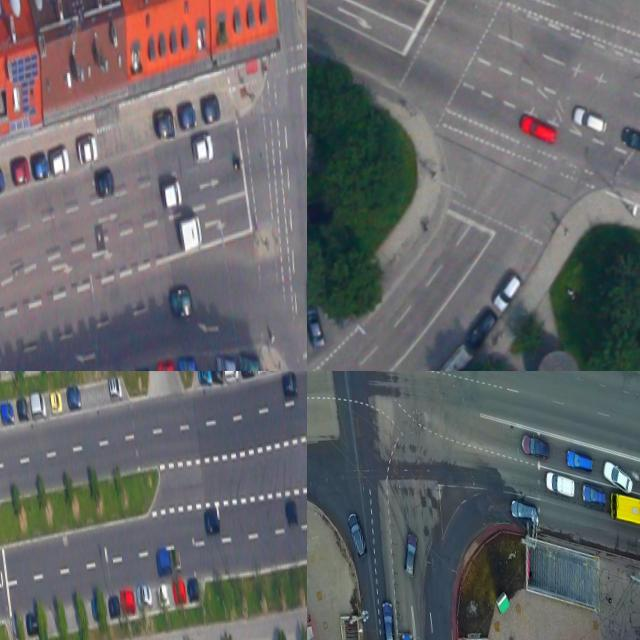UAI: (461, 304, 504, 352), (517, 109, 559, 148), (571, 101, 610, 138), (491, 272, 525, 312), (602, 456, 634, 498), (434, 342, 475, 371), (346, 511, 369, 560), (543, 468, 578, 500), (520, 428, 553, 461), (564, 442, 595, 477), (400, 531, 423, 578), (580, 479, 610, 511), (307, 303, 326, 349), (509, 496, 538, 525), (199, 90, 222, 125), (379, 598, 398, 640), (153, 107, 176, 140), (93, 165, 116, 198), (169, 286, 193, 317), (619, 122, 640, 157), (160, 178, 183, 209), (191, 133, 215, 162), (10, 155, 31, 186), (48, 146, 70, 175), (78, 136, 99, 164), (29, 389, 47, 420), (178, 101, 197, 130), (30, 150, 49, 179), (237, 351, 260, 371), (203, 508, 220, 535), (155, 548, 172, 575), (281, 371, 298, 398), (136, 583, 153, 609), (66, 384, 82, 409), (120, 589, 136, 613), (157, 580, 171, 607), (25, 610, 39, 637), (215, 354, 237, 371), (0, 401, 15, 425), (186, 576, 200, 601), (107, 593, 121, 618), (16, 396, 30, 421), (284, 500, 298, 525), (177, 354, 197, 371), (172, 578, 186, 602), (108, 376, 122, 400), (50, 389, 63, 413), (156, 360, 176, 371), (172, 549, 182, 571), (197, 371, 212, 385), (0, 161, 6, 195), (399, 629, 417, 640), (210, 371, 223, 383), (223, 371, 239, 380), (133, 364, 153, 371), (240, 371, 255, 377)
car: (606, 483, 640, 547)
harvester: (178, 212, 204, 252)
